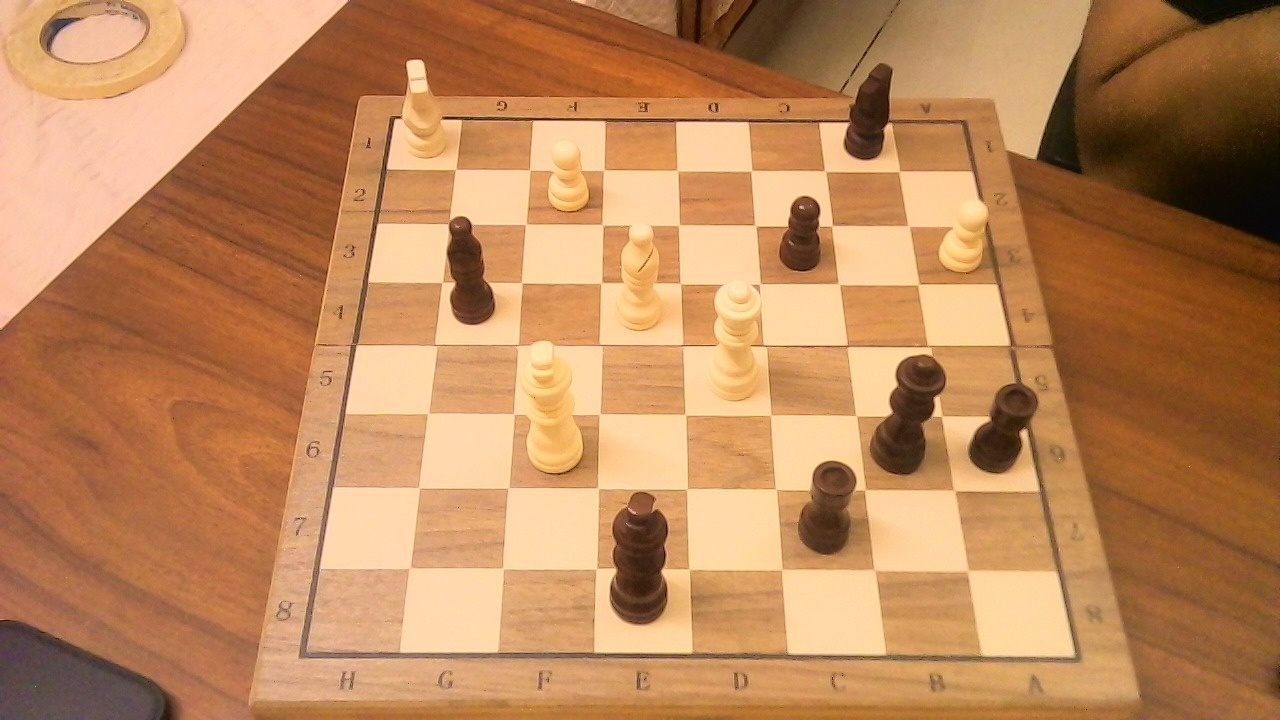B: (607, 211, 673, 336)
K: (516, 329, 591, 478)
N: (394, 72, 452, 163)
P: (931, 190, 996, 275), (538, 131, 595, 215)
Q: (697, 268, 769, 407)
b: (442, 203, 509, 329)
k: (602, 475, 685, 630)
n: (836, 50, 901, 165)
p: (772, 183, 832, 275)
q: (867, 339, 957, 479)
r: (963, 370, 1047, 477), (791, 448, 868, 558)
